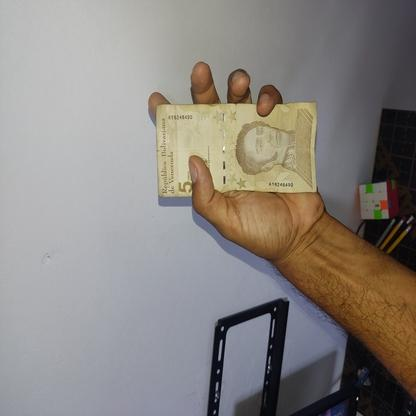five-front-vef: (155, 101, 316, 199)
